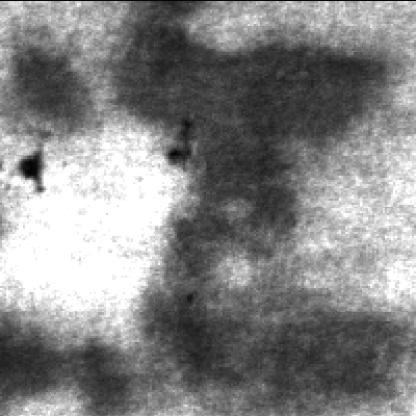patches: (121, 26, 395, 252), (150, 272, 412, 414), (2, 312, 144, 416), (12, 33, 100, 135)
